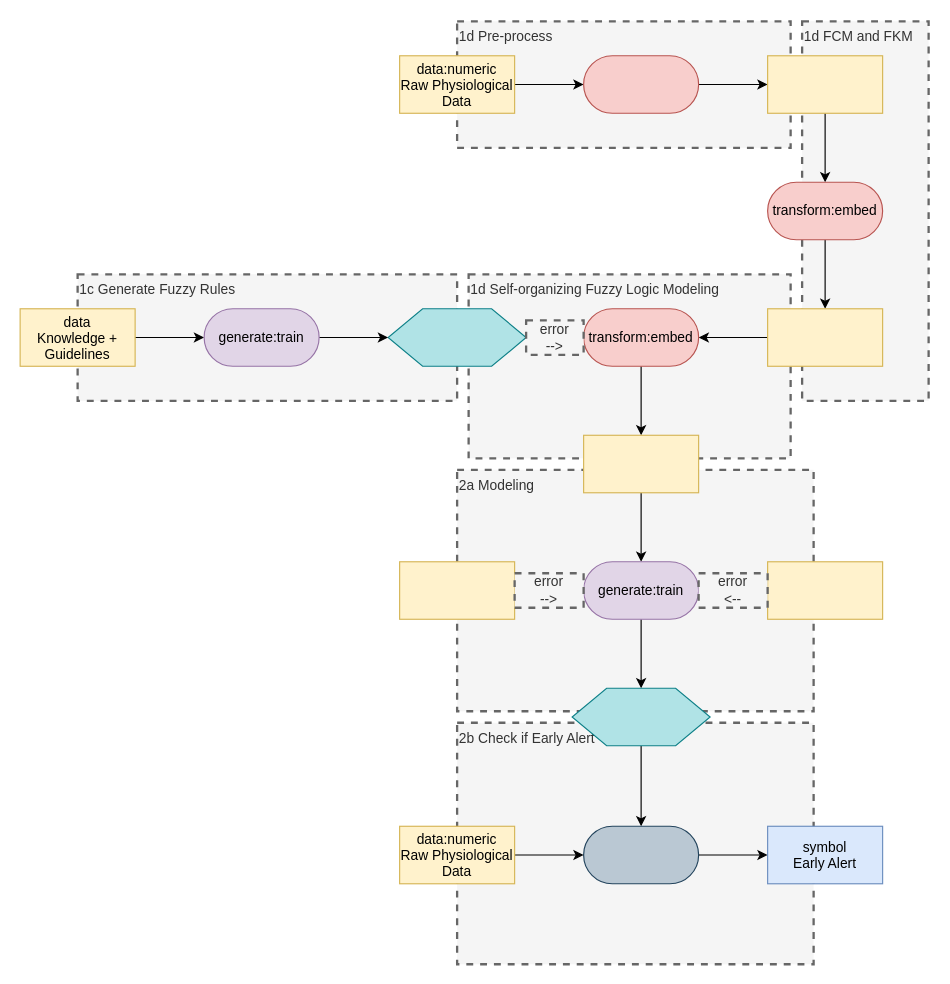
This 950x984 diagram has some shape labels left out. Each missing label, with the centre of its shape:
data Authentic Diagnosis Database: (824,590)
data Historical Data Sets: (456,590)
data Physiological Conditions: (640,463)
data:numeric Clean Physiological Data: (824,84)
data:numeric Clustered Physiological Data: (824,337)
infer:deduce: (640,854)
model:semantic Decision Support: (640,716)
model:semantic Fuzzy Rules: (456,337)
transform: (640,84)
